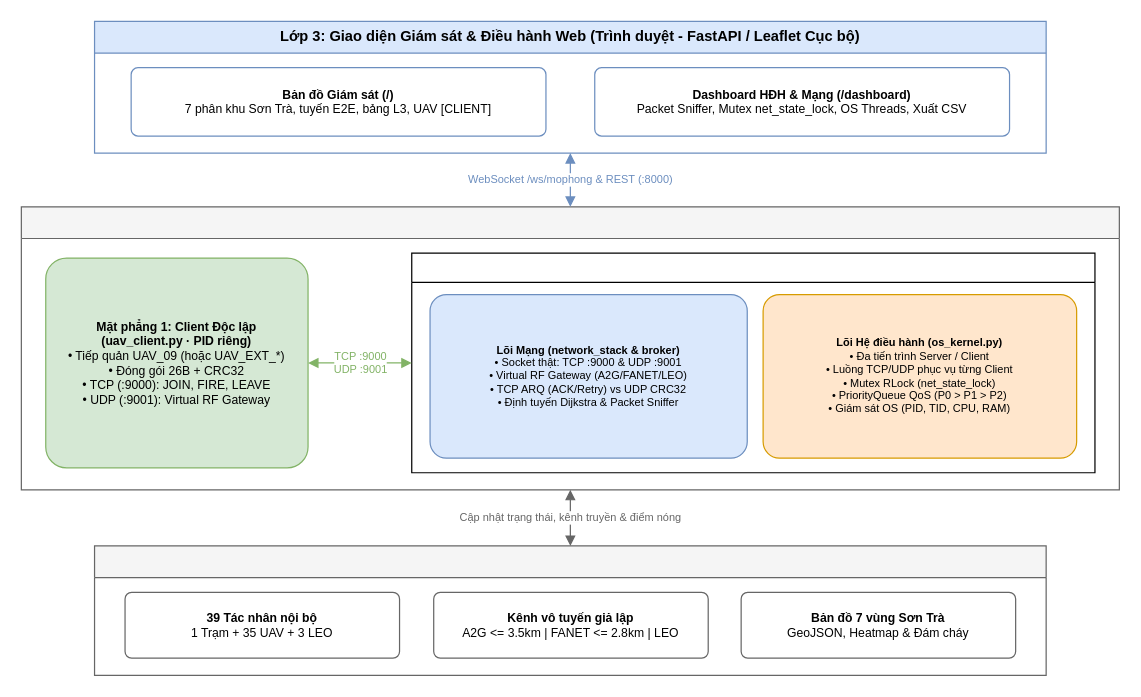
Image size: 1141x697. Some labels were removed from this diagram. Here are the shapes that lost their labels. From the top down, the box of each, then its label:
(20, 206, 1119, 490): Lớp 2: Phân tách Mặt phẳng Triển khai (Client - Server) & Lõi Điều phối
(411, 252, 1095, 473): Tiến trình Server Trạm Kiểm Lâm (main.py · PID chính)
(93, 545, 1046, 675): Lớp 1: Mặt phẳng Mạng vô tuyến Mô phỏng (Tô-pô SAGSINS / FANET & Địa lý)
